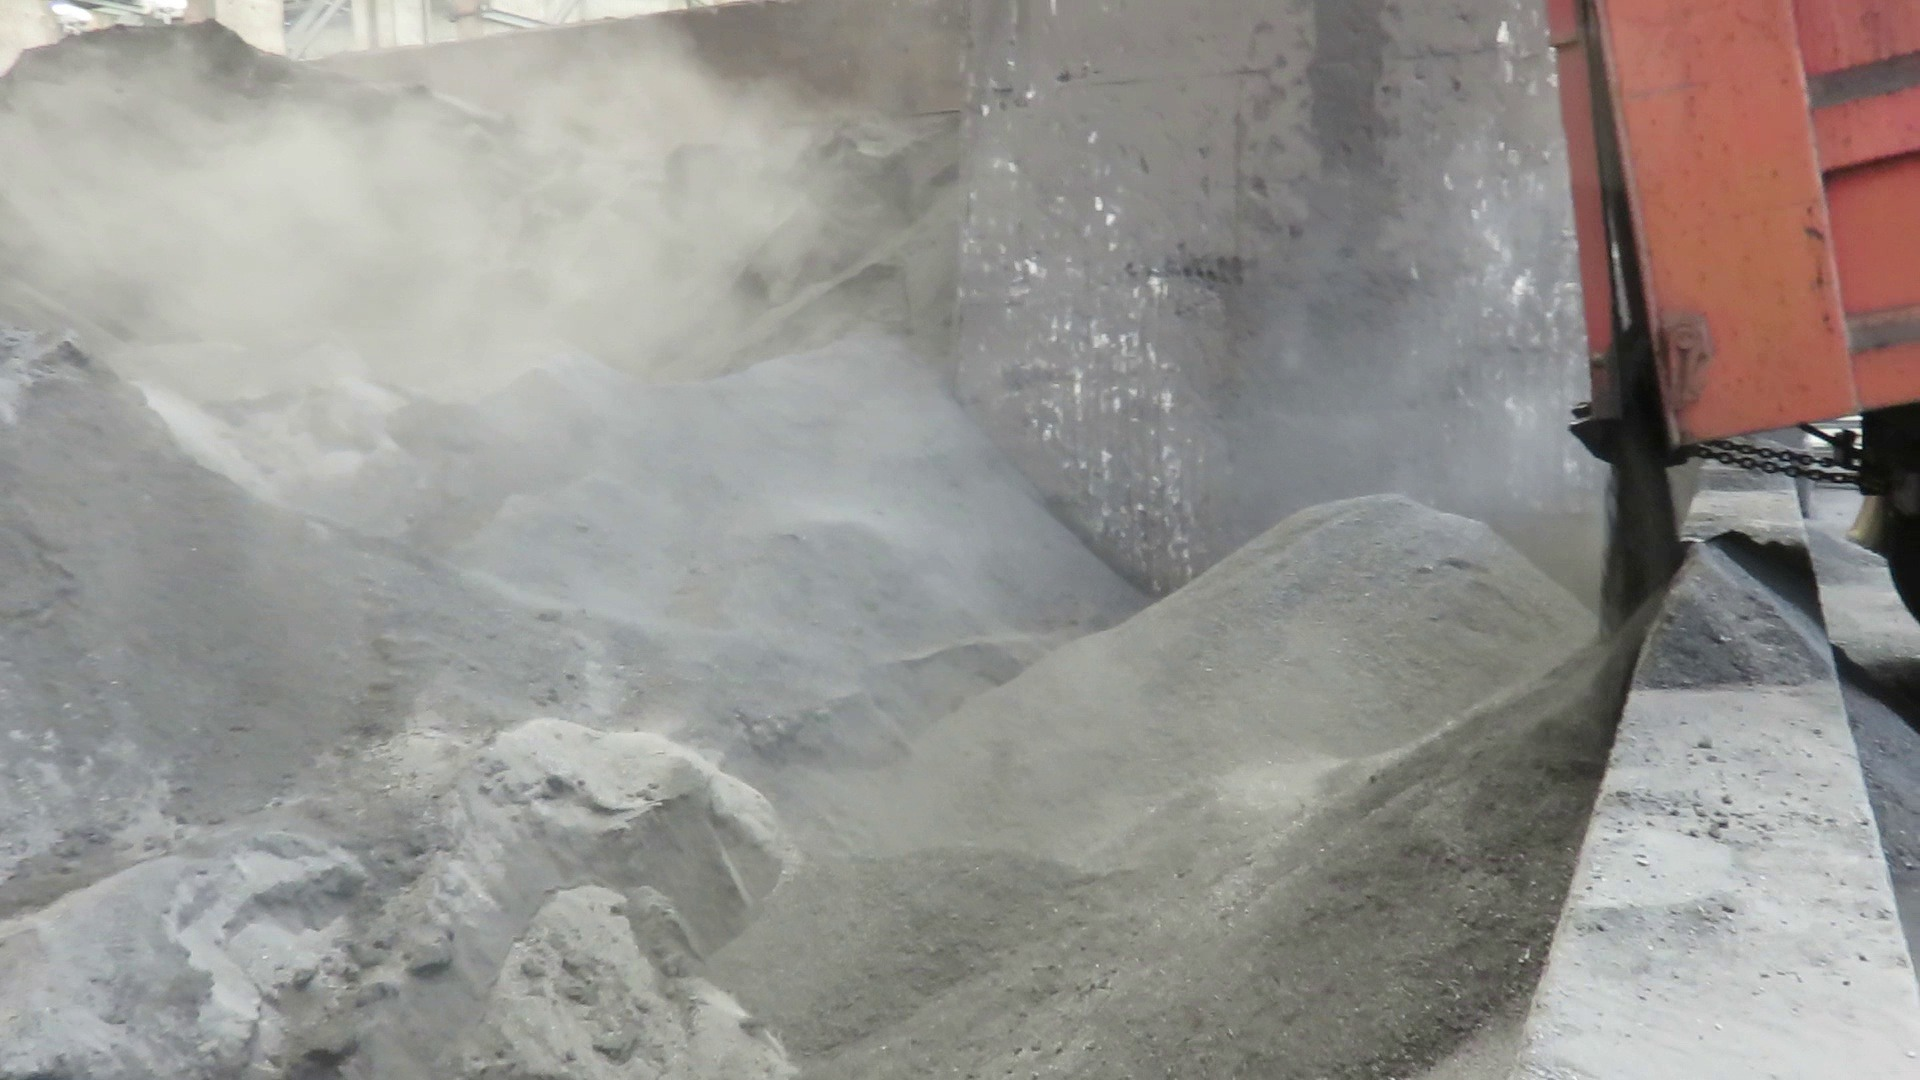dust: (144, 400, 1118, 852), (0, 4, 978, 394), (1211, 154, 1569, 518)
truck: (1528, 0, 1920, 629)
